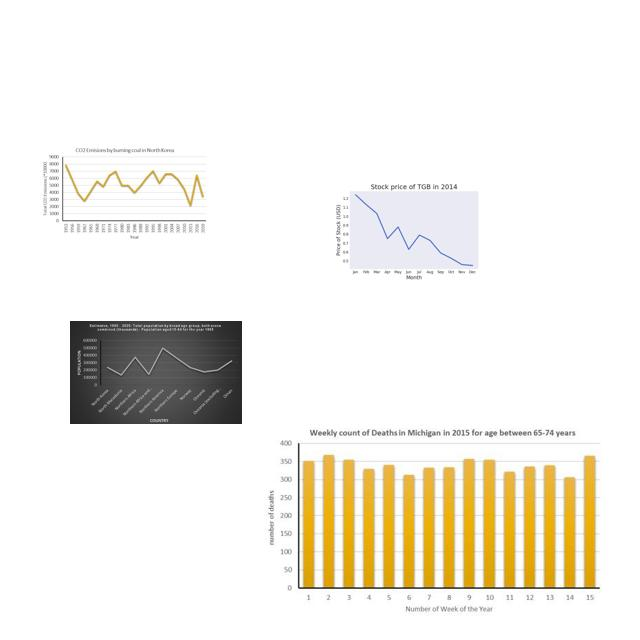Graph: (259, 417, 608, 622), (329, 167, 495, 292), (70, 321, 242, 424), (42, 144, 208, 241)
